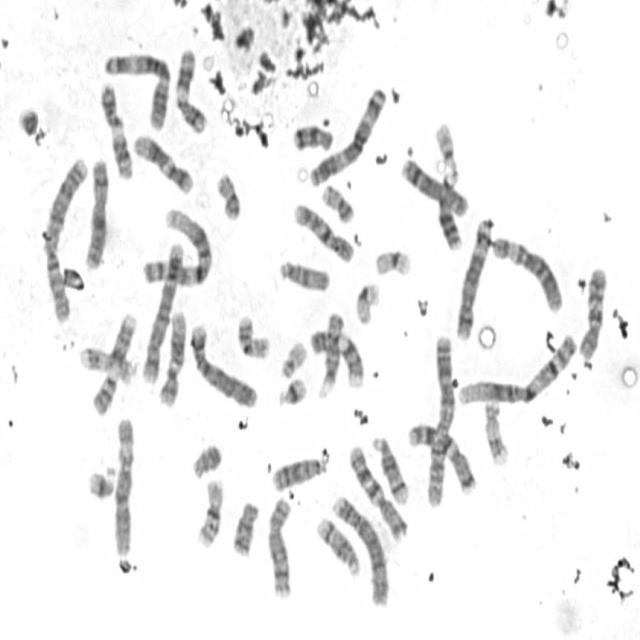A1: (453, 327, 578, 408), (138, 202, 214, 289)
A2: (39, 151, 90, 325), (424, 327, 457, 510)
A3: (305, 80, 389, 188), (100, 44, 173, 132)
B4: (330, 489, 392, 607), (186, 316, 259, 411)
B5: (140, 234, 187, 385), (452, 212, 495, 342)
C10: (291, 197, 357, 266), (576, 260, 610, 362)
C11: (97, 76, 135, 181), (172, 41, 209, 136)
C12: (130, 128, 196, 196), (155, 305, 187, 407)
C6: (489, 230, 566, 314), (109, 410, 136, 560)
C7: (346, 438, 410, 542), (403, 417, 478, 495)
C8: (397, 150, 470, 219), (264, 490, 296, 602)
C9: (88, 307, 138, 417), (306, 322, 366, 391)
D13: (434, 166, 466, 251), (268, 450, 330, 493)
D14: (368, 430, 412, 506), (312, 512, 362, 578)
D15: (315, 307, 347, 401), (275, 253, 332, 293)
E16: (193, 472, 226, 550), (234, 309, 272, 361)
E17: (76, 341, 136, 386), (481, 393, 511, 468)
E18: (229, 495, 262, 559), (290, 118, 336, 154)
F19: (352, 276, 383, 326), (371, 242, 414, 278)
F20: (318, 178, 356, 225), (213, 166, 243, 222)
G21: (84, 459, 118, 500), (274, 371, 309, 408)
G22: (431, 115, 460, 177), (277, 334, 309, 379)
X: (80, 150, 112, 272)
Y: (188, 438, 224, 480)
